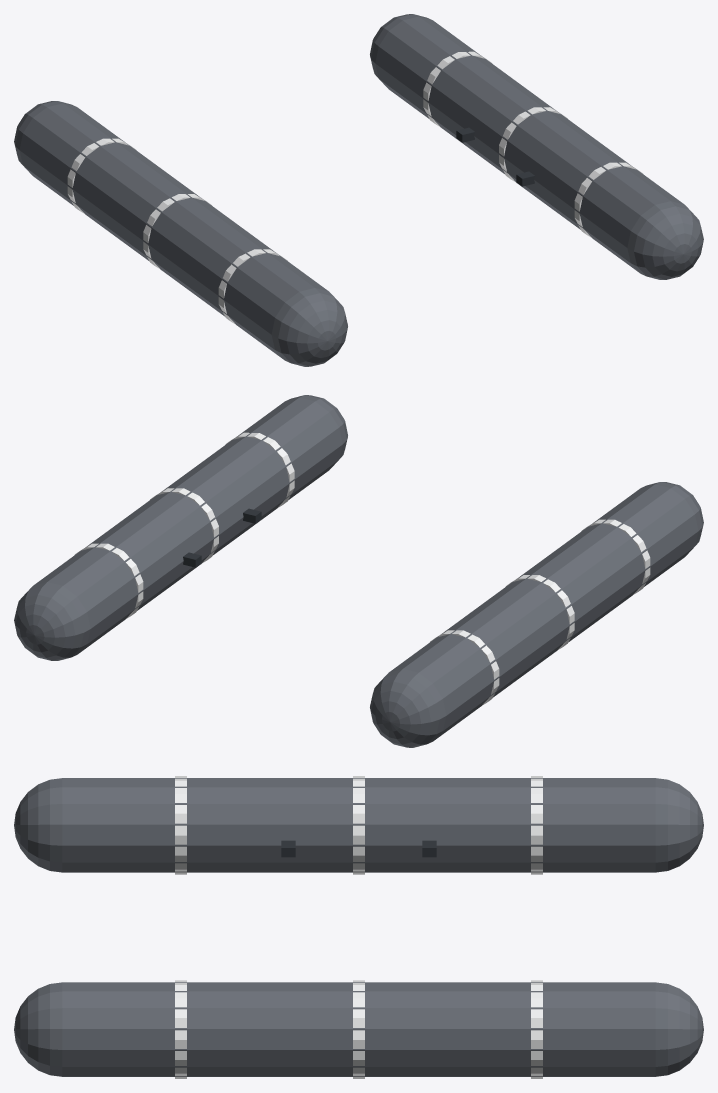
The model's file is kaze_gt.glb.
The picture shows the model from 3 angles, top to bottom: view 1: azimuth 30°, elevation 25°; view 2: azimuth 150°, elevation 25°; view 3: azimuth 270°, elevation 25°; orthographic projection. The views are drawn at different scales.
Visible parts, largest first — view 1: model; view 2: model; view 3: model.
Part boxes in pixels (bbox=[...]): model: bbox=[14, 14, 703, 366]; model: bbox=[14, 395, 703, 747]; model: bbox=[14, 776, 703, 1078].
Size of the model in its own units: 2.88 by 0.4897 by 3.43.
1 material, 1 textured.
